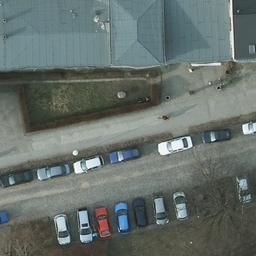car: (157, 134, 193, 155), (75, 208, 94, 245), (190, 185, 208, 221), (52, 213, 71, 247), (72, 155, 104, 175), (94, 205, 112, 239), (152, 194, 171, 226), (37, 161, 68, 180), (131, 196, 149, 228), (1, 168, 32, 186), (114, 201, 130, 235), (236, 173, 252, 206), (172, 189, 188, 219), (110, 146, 139, 162), (201, 129, 231, 144), (0, 210, 9, 228)
